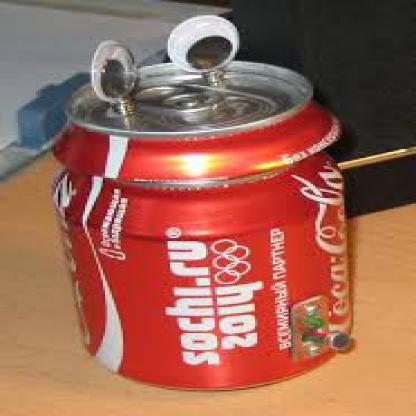METAL: (49, 58, 356, 392)
